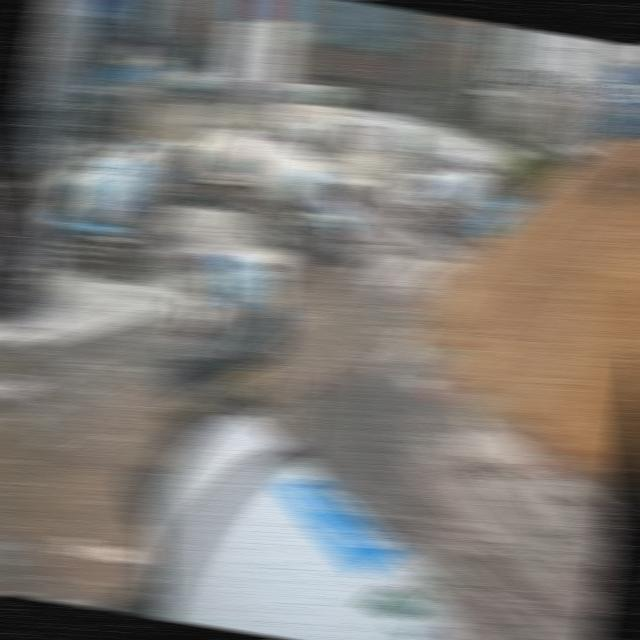cement_mixer_truck: (103, 334, 463, 640), (39, 143, 180, 283), (239, 137, 375, 264), (171, 248, 297, 360), (0, 160, 55, 316), (166, 128, 263, 210), (406, 171, 496, 251), (69, 132, 189, 173), (63, 135, 139, 169), (279, 119, 338, 160), (449, 150, 480, 174)
